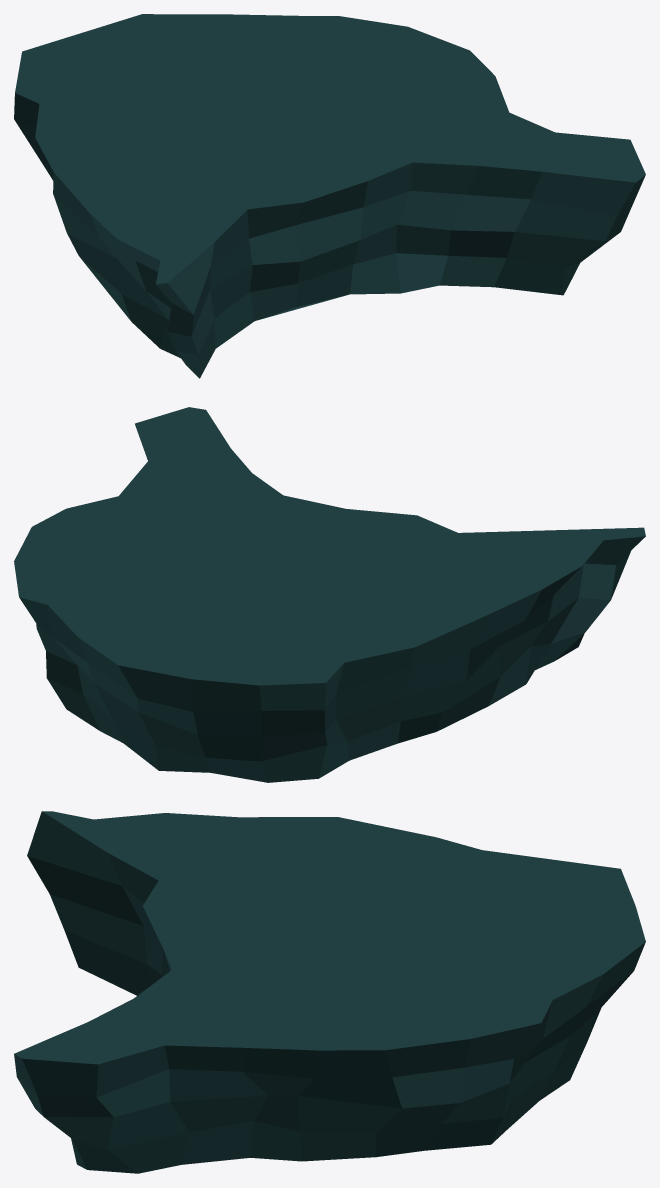
Rendered from Mountain.glb.
3 renders of one model, top to bottom at view 1: azimuth 30°, elevation 25°; view 2: azimuth 150°, elevation 25°; view 3: azimuth 270°, elevation 25°, orthographic. The views are drawn at different scales.
Parts seen in each view (by area): view 1: Plane; view 2: Plane; view 3: Plane.
Boxes of the visible parts, <box> form: Plane: <box>14,14,645,378</box>; Plane: <box>14,407,645,782</box>; Plane: <box>14,811,645,1173</box>.
Size of the model in its own units: 77.43 by 20.46 by 78.86.
